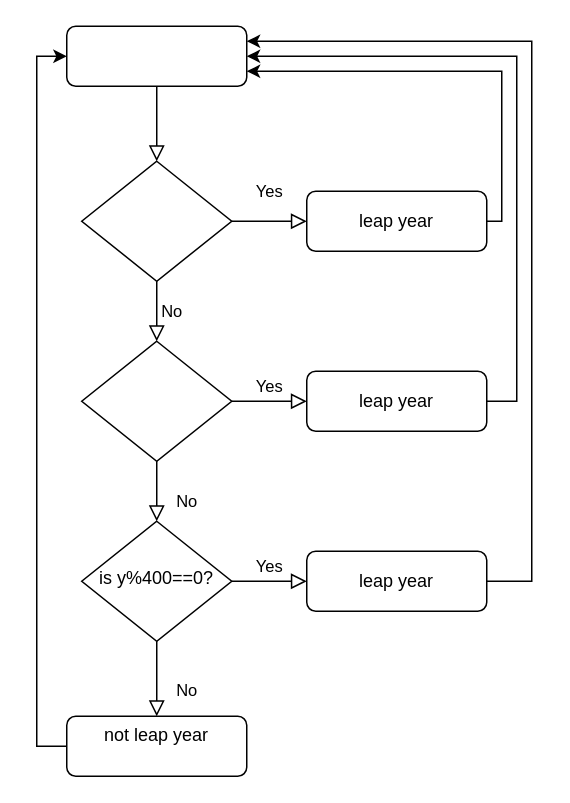
Some shapes in this 570 by 803 pixel diagram are drawn without their labels. Here are the shapes that lost their labels. From the top down, the box of each, then its label:
(65, 25, 247, 86): input year
(80, 160, 232, 281): is y%4==0?
(80, 340, 232, 461): is y%100==0?
